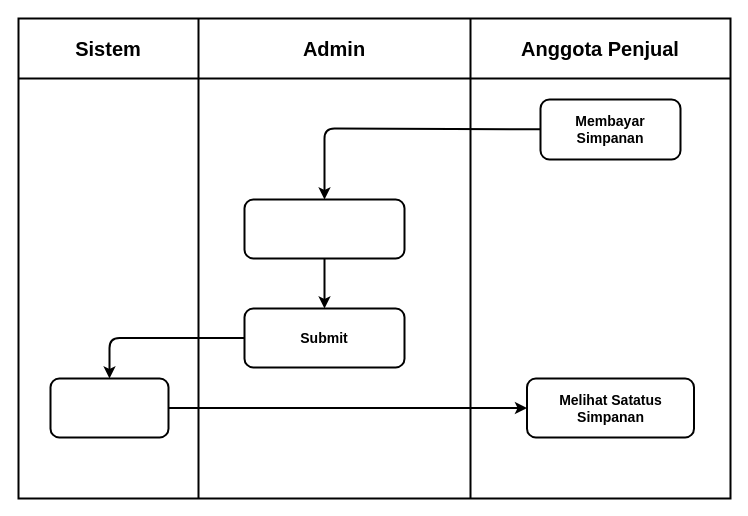
Image size: 748x516. Some labels were removed from this diagram. Each missing label, with the centre of its shape:
"Input Form Simpanan" belongs at pixel 324 228.
"Simpan Data Form" belongs at pixel 109 407.
